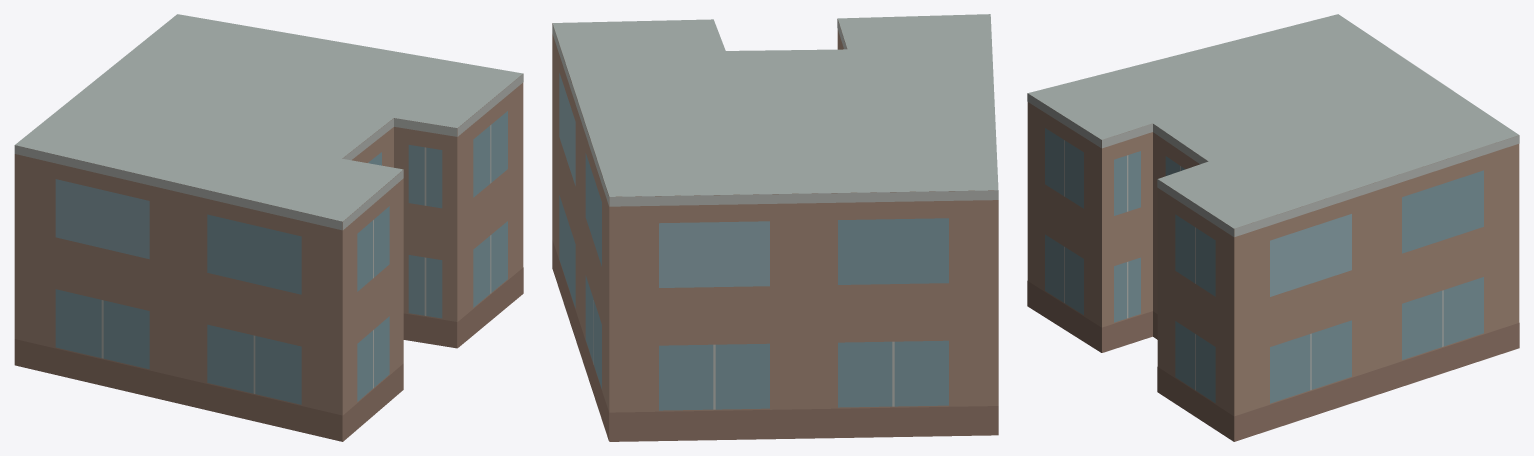
File: survey-upis-32682832.glb
The picture shows the model from 3 angles, left to right: view 1: azimuth 30°, elevation 25°; view 2: azimuth 150°, elevation 25°; view 3: azimuth 270°, elevation 25°; orthographic projection. The views are drawn at different scales.
Parts seen in each view (by area): view 1: survey-upis-32682832.tmp; view 2: survey-upis-32682832.tmp; view 3: survey-upis-32682832.tmp.
Part boxes in pixels (left/top/right/bottom): survey-upis-32682832.tmp: left=14, top=14, right=523, bottom=441; survey-upis-32682832.tmp: left=552, top=14, right=998, bottom=441; survey-upis-32682832.tmp: left=1027, top=14, right=1519, bottom=441.
Size of the model in its own units: 13.19 by 6.1 by 12.77.
